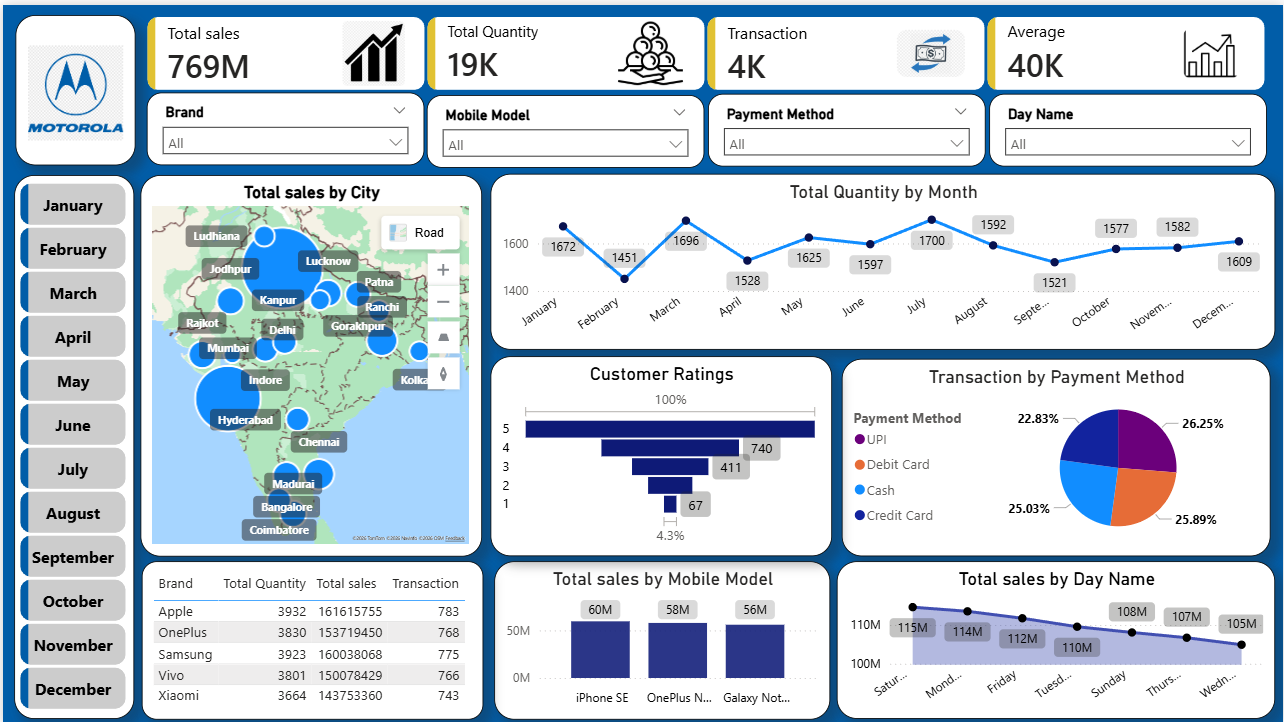

The page's visual inventory and layout, read from the dashboard file:
{"tool":"powerbi","page":{"name":"Page 1","canvas":[1280,720],"ordinal":0},"visuals":[{"type":"shape","box":[12.5,10,120,150],"z":0},{"type":"image","box":[11.2,218.8,108.8,105],"z":1000},{"type":"shape","box":[11.2,170,120,543.8],"z":2000},{"type":"listSlicer","fields":{"Values":["Sheet1.date.Variation.Date Hierarchy.Month"]},"box":[12.5,173.8,115,535],"z":3000},{"type":"cardVisual","fields":{"Data":["sales data.Total sales","sales data.Total Quantity","sales data.Transaction","sales data.Average"]},"box":[127.5,0,1152.5,97.5],"z":4000},{"type":"azureMap","fields":{"Category":["sales data.City"],"Size":["sales data.Total sales"]},"box":[137.5,170,341.2,381.2],"z":5000},{"type":"lineChart","fields":{"Category":["sales data.date.Variation.Date Hierarchy.Month","sales data.date.Variation.Date Hierarchy.Day"],"Y":["sales data.Total Quantity"]},"box":[487.5,168.8,785,176.2],"z":6000},{"type":"clusteredColumnChart","fields":{"Category":["sales data.Mobile Model"],"Y":["sales data.Total sales"]},"box":[491.2,556.2,336.2,158.8],"z":7000},{"type":"pieChart","fields":{"Category":["sales data.Payment Method"],"Y":["sales data.Transaction"]},"box":[838.8,353.8,428.8,197.5],"z":8000},{"type":"slicer","fields":{"Values":["sales data.Brand"]},"box":[143.8,87.5,277.5,72.5],"z":9000},{"type":"funnel","title":" Customer Ratings","fields":{"Category":["sales data.Customer Ratings"],"Y":["Sum(sales data.Customer Ratings)"]},"box":[487.5,351.2,341.2,200],"z":9001},{"type":"areaChart","fields":{"Category":["sales data.Day Name"],"Y":["sales data.Total sales"]},"box":[833.8,556.2,438.8,157.5],"z":9002},{"type":"tableEx","fields":{"Values":["sales data.Brand","sales data.Total Quantity","sales data.Total sales","sales data.Transaction"]},"box":[138.8,556.2,341.2,158.8],"z":9003},{"type":"slicer","fields":{"Values":["sales data.Mobile Model"]},"box":[423.8,90,277.5,72.5],"z":9004},{"type":"slicer","fields":{"Values":["sales data.Payment Method"]},"box":[705,88.8,277.5,72.5],"z":9005},{"type":"slicer","fields":{"Values":["sales data.Day Name"]},"box":[986.2,88.8,277.5,72.5],"z":9006},{"type":"image","box":[25,38.8,95,98.8],"z":9007}]}

Visuals, with their boxes in screenshot pixels (x1, y1, x2, y2), scaled from the page's 1280x720 canvas onto the 1284x722 screenshot:
shape: (x1=13, y1=10, x2=133, y2=160)
image: (x1=11, y1=219, x2=120, y2=325)
shape: (x1=11, y1=170, x2=132, y2=716)
listSlicer - Sheet1.date.Variation.Date Hierarchy.Month: (x1=13, y1=174, x2=128, y2=711)
cardVisual - sales data.Total sales x sales data.Total Quantity: (x1=128, y1=0, x2=1283, y2=98)
azureMap - sales data.City x sales data.Total sales: (x1=138, y1=170, x2=480, y2=553)
lineChart - sales data.date.Variation.Date Hierarchy.Month x sales data.date.Variation.Date Hierarchy.Day: (x1=489, y1=169, x2=1276, y2=346)
clusteredColumnChart - sales data.Mobile Model x sales data.Total sales: (x1=493, y1=558, x2=830, y2=717)
pieChart - sales data.Payment Method x sales data.Transaction: (x1=841, y1=355, x2=1272, y2=553)
slicer - sales data.Brand: (x1=144, y1=88, x2=423, y2=160)
" Customer Ratings" funnel: (x1=489, y1=352, x2=831, y2=553)
areaChart - sales data.Day Name x sales data.Total sales: (x1=836, y1=558, x2=1277, y2=716)
tableEx - sales data.Brand x sales data.Total Quantity: (x1=139, y1=558, x2=482, y2=717)
slicer - sales data.Mobile Model: (x1=425, y1=90, x2=703, y2=163)
slicer - sales data.Payment Method: (x1=707, y1=89, x2=986, y2=162)
slicer - sales data.Day Name: (x1=989, y1=89, x2=1268, y2=162)
image: (x1=25, y1=39, x2=120, y2=138)
